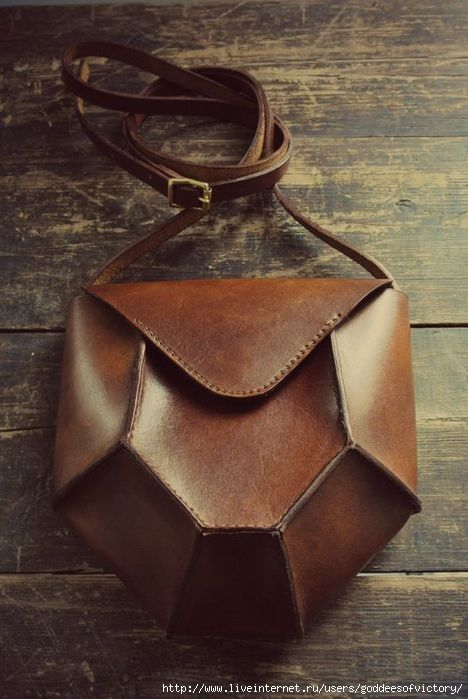cuero: (51, 40, 421, 643)
